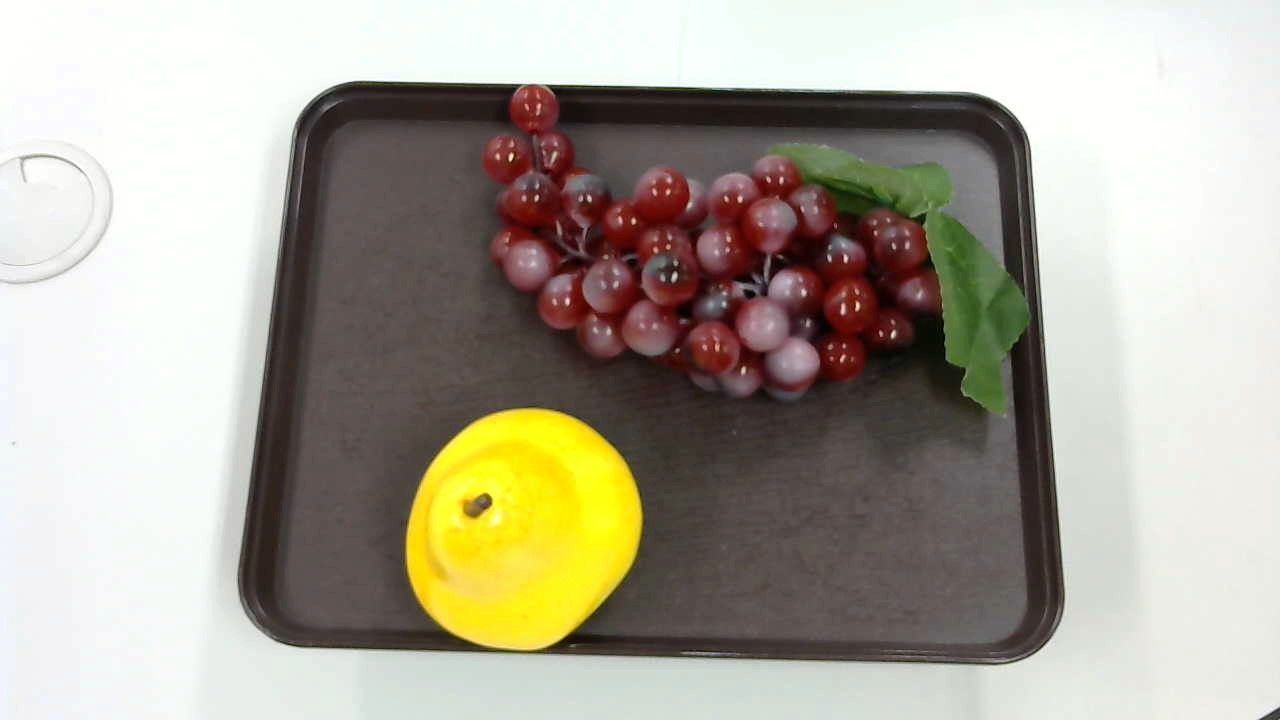grape: (476, 78, 1039, 410)
yellow pear: (398, 408, 642, 652)
